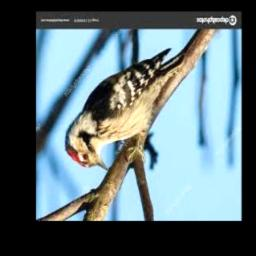Woodpecker: (65, 48, 185, 171)
